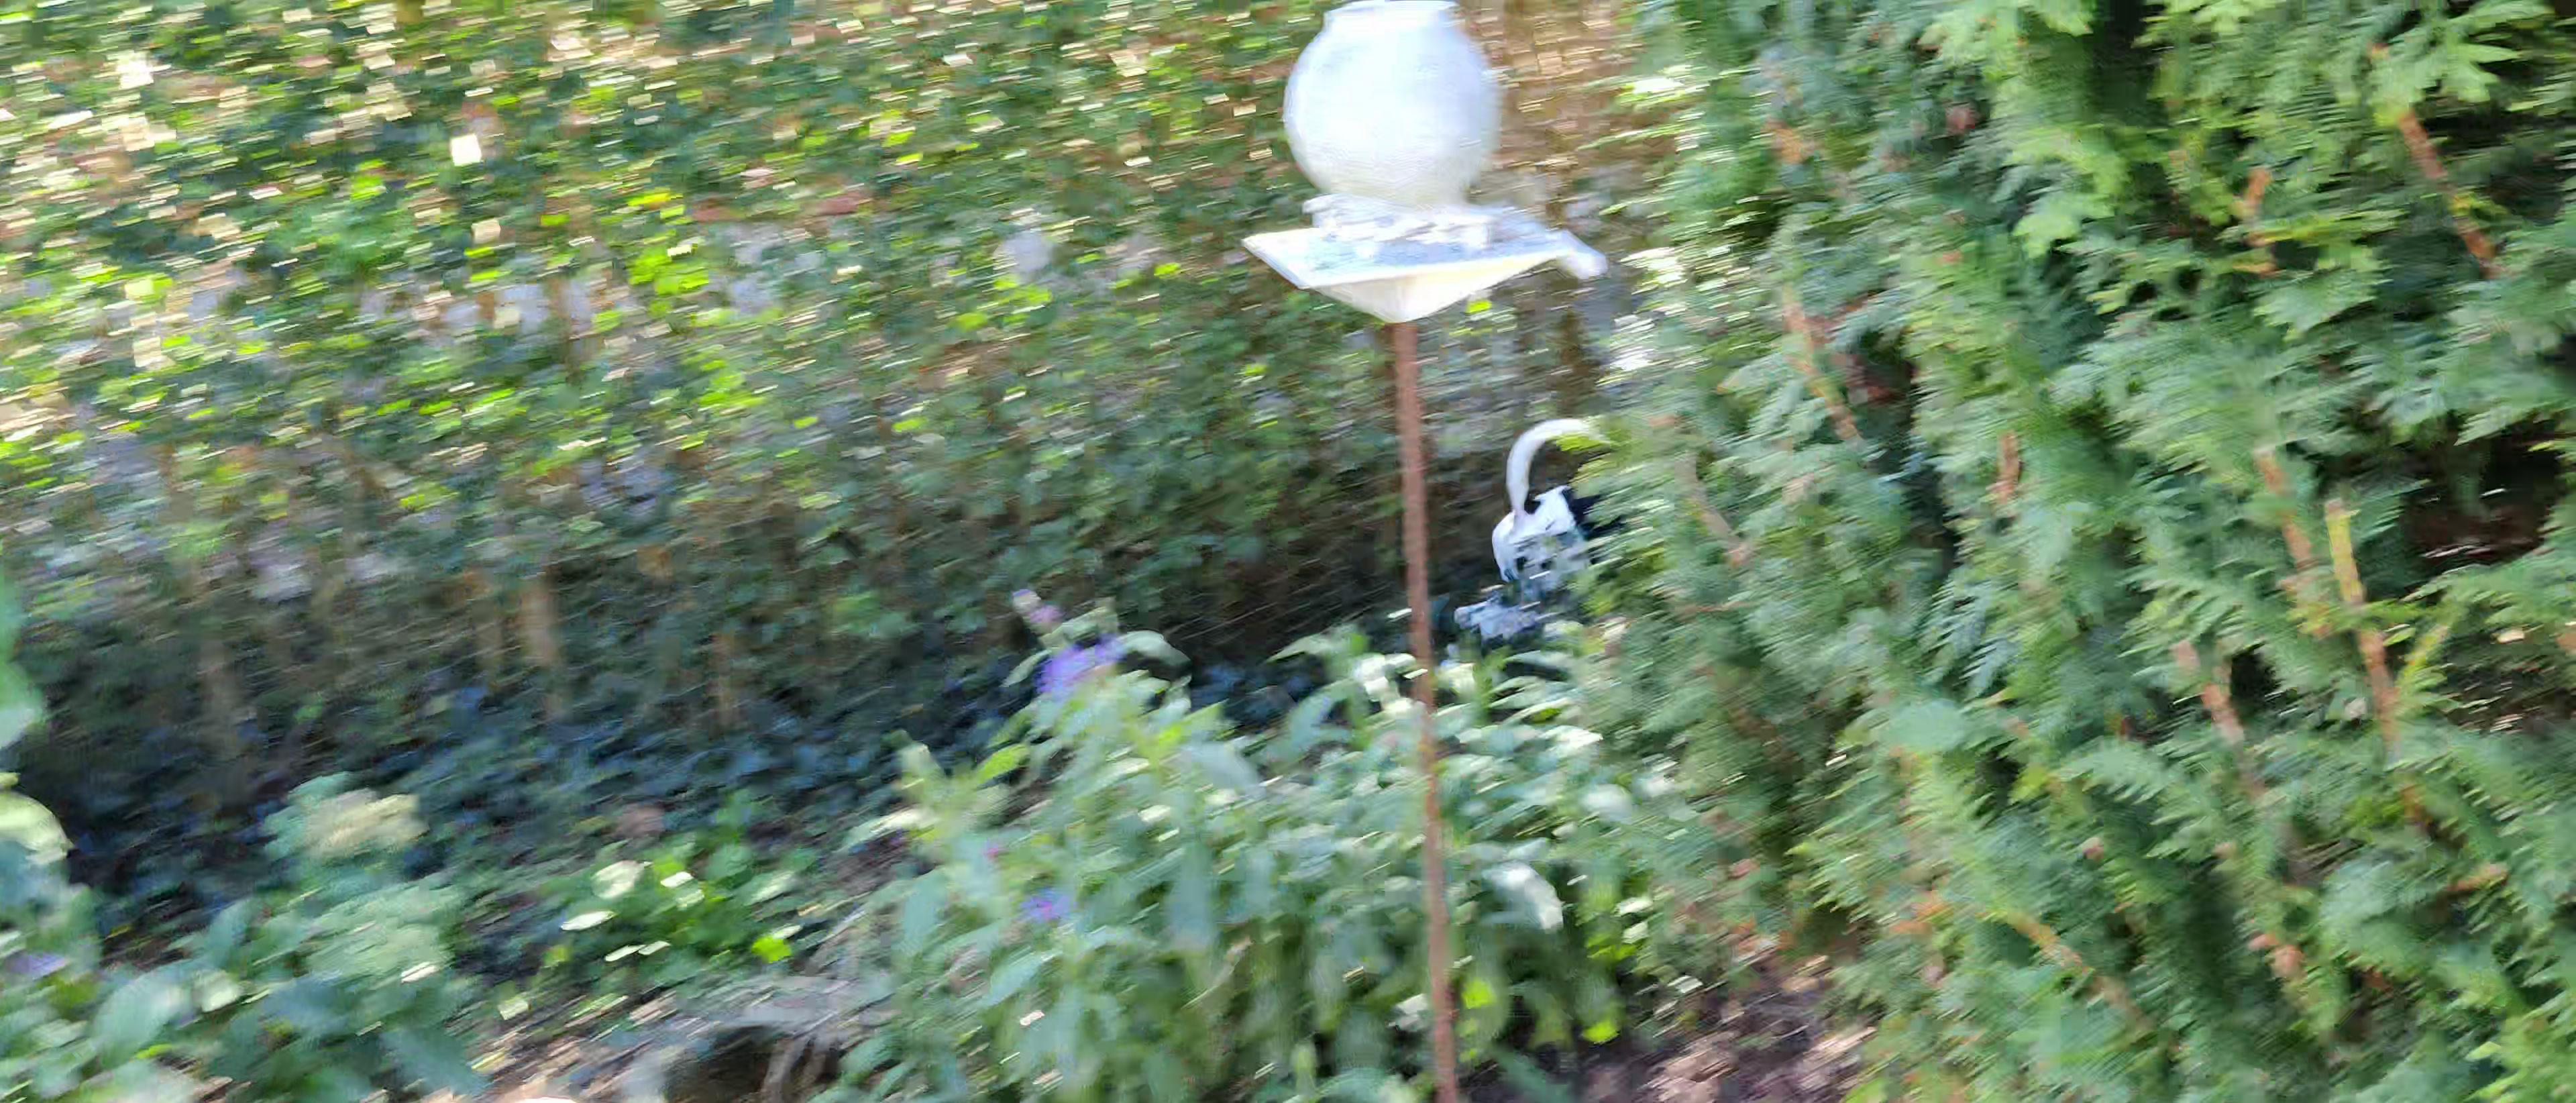Dog: (1480, 404, 1659, 607)
